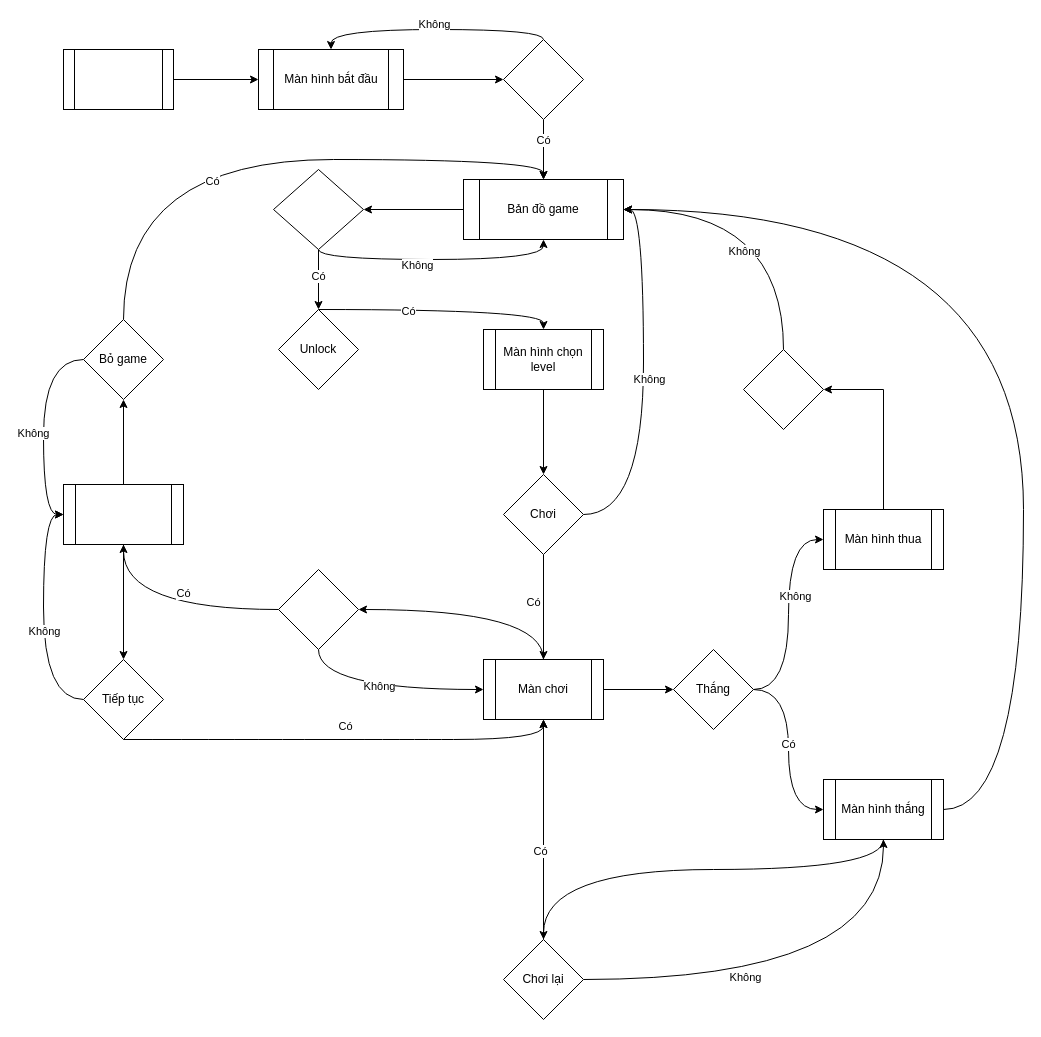
Image size: 1041x1037. Some labels were removed from this diagram. Each missing label, with the box of its shape:
Bắt đầu: (502, 38, 584, 120)
Dừng: (278, 568, 358, 650)
Màn hình dừng: (62, 484, 184, 544)
Màn hình mở: (62, 48, 174, 110)
Select Level: (272, 168, 364, 250)
Thử lại: (742, 348, 824, 430)
